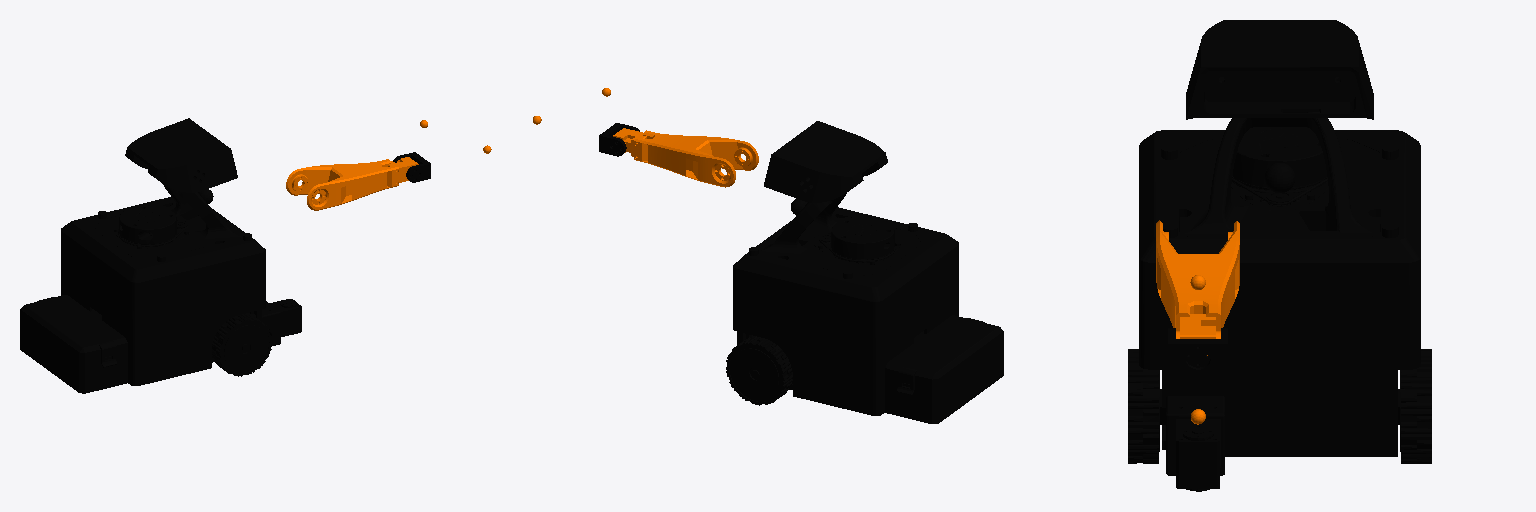
robot.urdf — maurice_bot:
<?xml version="1.0"?>
<robot name="maurice_bot">
  <!-- Materials -->
  <material name="matt_black">
    <color rgba="0.05 0.05 0.05 1.0"/>
  </material>
  <material name="bright_orange">
    <color rgba="1.0 0.5 0.0 1.0"/>
  </material>
  <material name="collision_material">
    <color rgba="0.0 1.0 0.0 0.3"/>  <!-- Semi-transparent green -->
  </material>

  <!-- base_root link (inertial tag removed) -->
  <link name="base_root">
    <!-- <inertial>
      <origin xyz="0 0 0" rpy="0 0 0"/>
      <mass value="0.01"/>
      <inertia ixx="0.1" ixy="0.0" ixz="0.0" iyy="0.1" iyz="0.0" izz="0.1"/>
    </inertial> -->
  </link>

  <!-- prismatic X -->
  <joint name="base_x" type="prismatic">
    <parent link="base_root"/>
    <child  link="base_x"/>
    <origin xyz="0 0 0" rpy="0 0 0"/>
    <axis  xyz="1 0 0"/>
    <dynamics damping="5"/>
    <limit lower="0" upper="0" effort="0" velocity="0"/>
  </joint>
  <link name="base_x">
    <inertial>
      <origin xyz="0 0 0" rpy="0 0 0"/>
      <mass value="0.01"/>
      <inertia ixx="0.1" ixy="0.0" ixz="0.0" iyy="0.1" iyz="0.0" izz="0.1"/>
    </inertial>
  </link>

  <!-- prismatic Y -->
  <joint name="base_y" type="prismatic">
    <parent link="base_x"/>
    <child  link="base_y"/>
    <origin xyz="0 0 0" rpy="0 0 0"/>
    <axis  xyz="0 1 0"/>
    <dynamics damping="5"/>
    <limit lower="0" upper="0" effort="0" velocity="0"/>
  </joint>
  <link name="base_y">
    <inertial>
      <origin xyz="0 0 0" rpy="0 0 0"/>
      <mass value="0.01"/>
      <inertia ixx="0.1" ixy="0.0" ixz="0.0" iyy="0.1" iyz="0.0" izz="0.1"/>
    </inertial>
  </link>

  <!-- yaw rotation -->
  <joint name="base_yaw" type="revolute">
    <parent link="base_y"/>
    <child  link="base_link"/>
    <origin xyz="0 0 0" rpy="0 0 0"/>
    <axis  xyz="0 0 1"/>
    <dynamics damping="5"/>
    <limit lower="-3.1416" upper="3.1416" effort="0.0" velocity="0.0"/>
  </joint>
  <link name="base_link">
    <inertial>
      <origin xyz="0 0 0" rpy="0 0 0"/>
      <mass value="0.89"/>
      <inertia ixx="0.001" ixy="0.0" ixz="0.0" iyy="0.001" iyz="0.0" izz="0.001"/>
    </inertial>
    <visual>
      <origin xyz="0 0 0" rpy="0 0 -1.5708"/>
      <geometry>
        <mesh filename="meshes/base.STL" scale="1 1 1"/>
      </geometry>
      <material name="matt_black"/>
    </visual>
    <!-- Simplified collision: Box 187.8mm x 182mm x 167.6mm, front face 35.2mm forward -->
    <collision>
      <origin xyz="-0.0587 0 0.0838" rpy="0 0 0"/>
      <geometry>
        <box size="0.1878 0.182 0.1676"/>
      </geometry>
      <material name="collision_material"/>
    </collision>
  </link>

  <!-- head camera link (main camera at center of base, 20cm above bottom) -->
  <joint name="head_camera_joint" type="revolute">
    <parent link="base_link"/>
    <child  link="head_camera_link"/>
    <origin xyz="0 0 0.20" rpy="0 0 0"/>
    <axis xyz="0 0 1"/>
    <limit lower="0" upper="0" effort="0" velocity="0"/>
  </joint>
  <link name="head_camera_link">
    <inertial>
      <origin xyz="0 0 0" rpy="0 0 0"/>
      <mass value="0.01"/>
      <inertia ixx="0.0001" ixy="0" ixz="0" iyy="0.0001" iyz="0" izz="0.0001"/>
    </inertial>
    <visual>
      <origin xyz="0 0 0" rpy="0 0 0"/>
      <geometry>
        <sphere radius="0.01"/>
      </geometry>
      <material name="matt_black"/>
    </visual>
  </link>

  <!-- joint1 → link1 -->
  <joint name="joint1" type="revolute">
    <parent link="base_link"/>
    <child  link="link1"/>
    <origin xyz="0.086 -0.05285 0.04025" rpy="0 0 0"/>
    <axis  xyz="0 0 1"/>
    <dynamics damping="5"/>
    <limit lower="-1.5708" upper="1.5708" effort="2.0" velocity="2.0"/>
  </joint>
  <link name="link1">
    <inertial>
      <origin xyz="0 0 0" rpy="0 0 0"/>
      <mass value="0.065"/>
      <inertia ixx="0.0001" ixy="0" ixz="0" iyy="0.0001" iyz="0" izz="0.0001"/>
    </inertial>
    <visual>
      <origin xyz="0 0 0" rpy="1.5708 0 0"/>
      <geometry>
        <mesh filename="meshes/link1.STL" scale="1 1 1"/>
      </geometry>
      <material name="bright_orange"/>
    </visual>
    <collision>
      <origin xyz="0 0 0" rpy="1.5708 0 0"/>
      <geometry>
        <mesh filename="meshes/link1.STL" scale="1 1 1"/>
      </geometry>
    </collision>
  </link>

  <!-- joint2 → link2 -->
  <joint name="joint2" type="revolute">
    <parent link="link1"/>
    <child  link="link2"/>
    <origin xyz="0 0 0.04225" rpy="0 0 0"/>
    <axis  xyz="0 1 0"/>
    <dynamics damping="5"/>
    <limit lower="-1.5708" upper="1.22" effort="2.0" velocity="2.0"/>
  </joint>
  <link name="link2">
    <inertial>
      <origin xyz="0 0 0" rpy="0 0 0"/>
      <mass value="0.080"/>
      <inertia ixx="0.0001" ixy="0" ixz="0" iyy="0.0001" iyz="0" izz="0.0001"/>
    </inertial>
    <visual>
      <origin xyz="0 0 0" rpy="1.5708 0 1.5708"/>
      <geometry>
        <mesh filename="meshes/link2.STL" scale="1 1 1"/>
      </geometry>
      <material name="matt_black"/>
    </visual>
    <!-- Simplified collision: Box 20mm x 54mm x 138.5mm (length along link direction) -->
    <collision>
      <origin xyz="0 0 0.06925" rpy="0 0 0"/>
      <geometry>
        <box size="0.020 0.054 0.1385"/>
      </geometry>
      <material name="collision_material"/>
    </collision>
  </link>

  <!-- joint3 → link3 -->
  <joint name="joint3" type="revolute">
    <parent link="link2"/>
    <child  link="link3"/>
    <origin xyz="0.02825 0 0.12125" rpy="0 0 0"/>
    <axis  xyz="0 1 0"/>
    <dynamics damping="5"/>
    <limit lower="-1.5708" upper="1.7453" effort="2.0" velocity="2.0"/>
  </joint>
  <link name="link3">
    <inertial>
      <origin xyz="0 0 0" rpy="0 0 0"/>
      <mass value="0.055"/>
      <inertia ixx="0.0001" ixy="0" ixz="0" iyy="0.0001" iyz="0" izz="0.0001"/>
    </inertial>
    <visual>
      <origin xyz="0 0 0" rpy="1.5708 0 1.5708"/>
      <geometry>
        <mesh filename="meshes/link3.STL" scale="1 1 1"/>
      </geometry>
      <material name="bright_orange"/>
    </visual>
    <!-- Simplified collision: Cylinder length 118mm, diameter 46mm -->
    <collision>
      <origin xyz="0.059 0 0" rpy="0 1.5708 0"/>
      <geometry>
        <cylinder radius="0.023" length="0.118"/>
      </geometry>
      <material name="collision_material"/>
    </collision>
  </link>

  <!-- joint4 → link4 -->
  <joint name="joint4" type="revolute">
    <parent link="link3"/>
    <child  link="link4"/>
    <origin xyz="0.1375 0 -0.0045" rpy="0 0 0"/>
    <axis  xyz="0 1 0"/>
    <dynamics damping="5"/>
    <limit lower="-1.9199" upper="1.7453" effort="2.0" velocity="2.0"/>
  </joint>
  <link name="link4">
    <inertial>
      <origin xyz="0 0 0" rpy="0 0 0"/>
      <mass value="0.022"/>
      <inertia ixx="0.00005" ixy="0" ixz="0" iyy="0.00005" iyz="0" izz="0.00005"/>
    </inertial>
    <visual>
      <origin xyz="0 0 0" rpy="1.5708 0 1.5708"/>
      <geometry>
        <mesh filename="meshes/link4.STL" scale="1 1 1"/>
      </geometry>
      <material name="matt_black"/>
    </visual>
    <collision>
      <origin xyz="0 0 0" rpy="1.5708 0 1.5708"/>
      <geometry>
        <mesh filename="meshes/link4.STL" scale="1 1 1"/>
      </geometry>
    </collision>
  </link>

  <!-- joint5 → link5 -->
  <joint name="joint5" type="revolute">
    <parent link="link4"/>
    <child  link="link5"/>
    <origin xyz="0.019 0 0" rpy="0 0 0"/>
    <axis  xyz="1 0 0"/>
    <dynamics damping="5"/>
    <limit lower="-1.5708" upper="1.5708" effort="2.0" velocity="2.0"/>
  </joint>
  <link name="link5">
    <inertial>
      <origin xyz="0 0 0" rpy="0 0 0"/>
      <mass value="0.050"/>
      <inertia ixx="0.00005" ixy="0" ixz="0" iyy="0.00005" iyz="0" izz="0.00005"/>
    </inertial>
    <visual>
      <origin xyz="0 0 0" rpy="1.5708 0 1.5708"/>
      <geometry>
        <mesh filename="meshes/link5.STL" scale="0.001 0.001 0.001"/>
      </geometry>
      <material name="bright_orange"/>
    </visual>
    <collision>
      <origin xyz="0 0 0" rpy="1.5708 0 1.5708"/>
      <geometry>
        <mesh filename="meshes/link5.STL" scale="0.001 0.001 0.001"/>
      </geometry>
    </collision>
  </link>

  <!-- joint6 → link61 (main gripper finger) -->
  <joint name="joint6" type="revolute">
    <parent link="link5"/>
    <child  link="link61"/>
    <origin xyz="0.044 -0.0091 0" rpy="0 0 0"/>
    <axis  xyz="0 0 1"/>
    <dynamics damping="5"/>
    <limit lower="-0.8727" upper="0.3491" effort="2.0" velocity="2.0"/>
  </joint>
  <link name="link61">
    <inertial>
      <origin xyz="0 0 0" rpy="0 0 0"/>
      <mass value="0.012"/>
      <inertia ixx="0.00002" ixy="0" ixz="0" iyy="0.00002" iyz="0" izz="0.00002"/>
    </inertial>
    <visual>
      <origin xyz="0 0 0" rpy="1.5708 0 1.5708"/>
      <geometry>
        <mesh filename="meshes/link61.STL" scale="0.001 0.001 0.001"/>
      </geometry>
      <material name="matt_black"/>
    </visual>
    <!-- Simplified collision: Box 48mm x 16mm x 38.9mm -->
    <collision>
      <origin xyz="0.024 0 0" rpy="0 0 0"/>
      <geometry>
        <box size="0.048 0.016 0.0389"/>
      </geometry>
      <material name="collision_material"/>
    </collision>
  </link>

  <!-- joint6M → link62 (mirrored gripper finger, geared with joint6) -->
  <joint name="joint6M" type="revolute">
    <parent link="link5"/>
    <child  link="link62"/>
    <origin xyz="0.044 0.0091 0" rpy="0 0 0"/>
    <axis  xyz="0 0 1"/>
    <dynamics damping="5"/>
    <limit lower="-0.8727" upper="0.3491" effort="2.0" velocity="2.0"/>
    <mimic joint="joint6" multiplier="-1" offset="0"/>
  </joint>
  <link name="link62">
    <inertial>
      <origin xyz="0 0 0" rpy="0 0 0"/>
      <mass value="0.012"/>
      <inertia ixx="0.00002" ixy="0" ixz="0" iyy="0.00002" iyz="0" izz="0.00002"/>
    </inertial>
    <visual>
      <origin xyz="0 0 0" rpy="1.5708 0 1.5708"/>
      <geometry>
        <mesh filename="meshes/link62.STL" scale="0.001 0.001 0.001"/>
      </geometry>
      <material name="matt_black"/>
    </visual>
    <!-- Simplified collision: Box 48mm x 16mm x 38.9mm -->
    <collision>
      <origin xyz="0.024 0 0" rpy="0 0 0"/>
      <geometry>
        <box size="0.048 0.016 0.0389"/>
      </geometry>
      <material name="collision_material"/>
    </collision>
  </link>

  <!-- End Effector Link -->
  <joint name="ee_joint" type="fixed">
    <parent link="link5"/>
    <child  link="ee_link"/>
    <origin xyz="0.09285 0 0" rpy="0 0 0"/>
  </joint>
  <link name="ee_link">
    <inertial>
      <origin xyz="0 0 0" rpy="0 0 0"/>
      <mass value="0.001"/>
      <inertia ixx="0.00001" ixy="0" ixz="0" iyy="0.00001" iyz="0" izz="0.00001"/>
    </inertial>
    <visual>
      <origin xyz="0 0 0" rpy="0 0 0"/>
      <geometry>
        <sphere radius="0.005"/>
      </geometry>
      <material name="bright_orange"/>
    </visual>
  </link>

  <!-- arm camera link -->
  <joint name="arm_camera_joint" type="revolute">
    <parent link="link5"/>
    <child  link="arm_camera_link"/>
    <origin xyz="0.00454 0 0.05448" rpy="0 0 0"/>
    <axis xyz="0 0 1"/>
    <limit lower="0" upper="0" effort="0" velocity="0"/>
  </joint>
  <link name="arm_camera_link">
    <inertial>
      <origin xyz="0 0 0" rpy="0 0 0"/>
      <mass value="0.01"/>
      <inertia ixx="0.0001" ixy="0" ixz="0" iyy="0.0001" iyz="0" izz="0.0001"/>
    </inertial>
    <visual>
      <origin xyz="0 0 0" rpy="0 0 0"/>
      <geometry>
        <sphere radius="0.005"/>
      </geometry>
      <material name="bright_orange"/>
    </visual>
  </link>

</robot>

--- Render facts (derived) ---
3 views of the same robot in one strip: view 1: azimuth 30°, elevation 25°; view 2: azimuth 150°, elevation 25°; view 3: azimuth 270°, elevation 25° (orthographic).
Model maurice_bot with 14 links and 13 joints (10 revolute, 2 prismatic, 1 fixed), rooted at base_root, posed all joints at 0.
Visible links, largest first — view 1: base_link, link3, link4; view 2: base_link, link3, link4; view 3: base_link, link3, link4, head_camera_link.
Boxes of the visible links, bbox=[...] form: base_link: bbox=[20, 118, 301, 393]; link3: bbox=[286, 157, 418, 210]; link4: bbox=[393, 152, 430, 182]; base_link: bbox=[726, 121, 1003, 423]; link3: bbox=[613, 128, 758, 187]; link4: bbox=[599, 123, 639, 156]; base_link: bbox=[1128, 20, 1431, 491]; link3: bbox=[1156, 220, 1239, 355]; link4: bbox=[1168, 328, 1227, 371]; head_camera_link: bbox=[1265, 163, 1294, 192].
Size in the robot's own frame: 0.5857 by 0.1964 by 0.2825 metres.
Meshes: 8 distinct files referenced, 4 mesh visuals loaded (4 binary STL); not drawn: 4 (reference not matched to a file when rendering).
